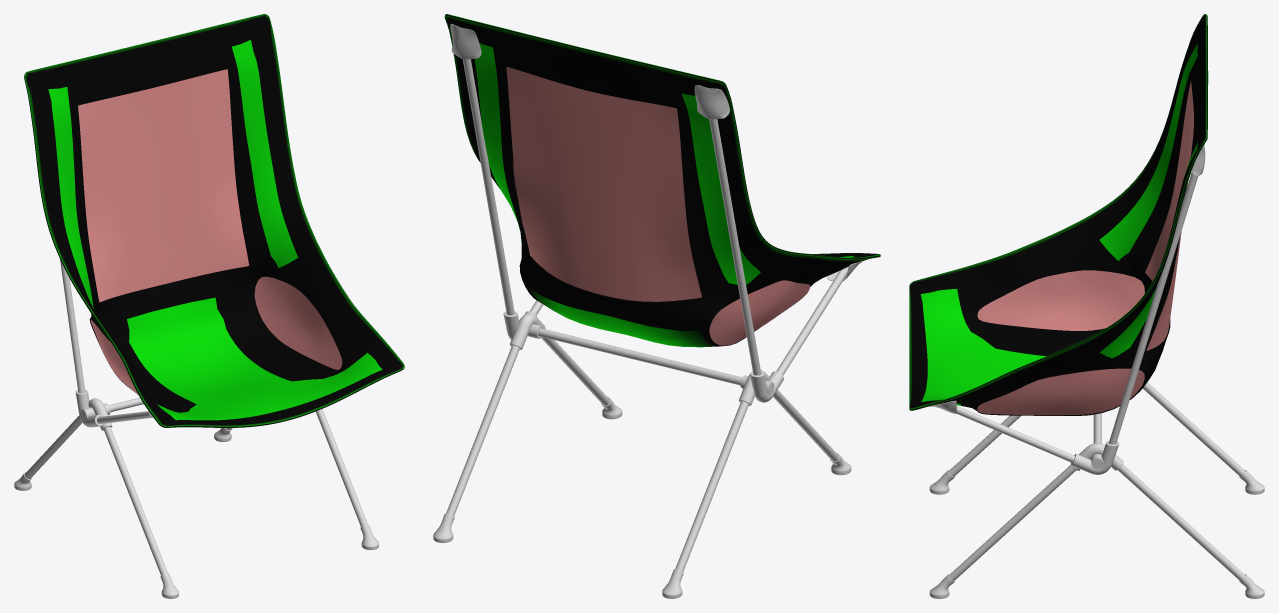
The model's file is camping chair.fbx.
The picture shows the model from 3 angles, left to right: view 1: azimuth 30°, elevation 25°; view 2: azimuth 150°, elevation 25°; view 3: azimuth 270°, elevation 25°; orthographic projection. The views are drawn at different scales.
Parts seen in each view (by area): view 1: fabric_001_mesh, mesh_001_mesh, mesh_003_mesh, leg_001_mesh, leg_003_mesh, leg_007_mesh, mesh_002_mesh, leg_004_mesh; view 2: fabric_001_mesh, mesh_001_mesh, mesh_002_mesh, leg_007_mesh, leg_009_mesh, leg_005_mesh, leg_002_mesh, leg_004_mesh, leg_006_mesh, fabric_002_mesh, fabric_003_mesh, leg_001_mesh (+2 smaller); view 3: fabric_001_mesh, mesh_002_mesh, mesh_003_mesh, mesh_001_mesh, leg_009_mesh, leg_002_mesh, leg_003_mesh, leg_004_mesh, leg_008_mesh, leg_001_mesh, bracket_004_mesh.
Boxes of the visible parts, x1,y1,x2,y2 form: fabric_001_mesh: [24, 14, 404, 427]; mesh_001_mesh: [78, 69, 249, 302]; mesh_003_mesh: [254, 276, 342, 369]; leg_001_mesh: [103, 426, 167, 575]; leg_003_mesh: [315, 409, 367, 526]; leg_007_mesh: [60, 259, 85, 393]; mesh_002_mesh: [90, 319, 138, 394]; leg_004_mesh: [25, 415, 82, 478]; fabric_001_mesh: [444, 14, 880, 347]; mesh_001_mesh: [506, 67, 701, 301]; mesh_002_mesh: [709, 280, 809, 345]; leg_007_mesh: [709, 119, 761, 375]; leg_009_mesh: [462, 59, 514, 315]; leg_005_mesh: [538, 328, 741, 385]; leg_002_mesh: [446, 345, 519, 516]; leg_004_mesh: [675, 401, 748, 571]; leg_006_mesh: [776, 266, 848, 375]; fabric_002_mesh: [694, 85, 729, 119]; fabric_003_mesh: [450, 24, 481, 59]; leg_001_mesh: [773, 389, 838, 461]; fabric_001_mesh: [909, 14, 1208, 415]; mesh_002_mesh: [977, 270, 1144, 330]; mesh_003_mesh: [977, 368, 1144, 415]; mesh_001_mesh: [1145, 81, 1193, 350]; leg_009_mesh: [1109, 172, 1198, 444]; leg_002_mesh: [1118, 464, 1245, 581]; leg_003_mesh: [948, 465, 1076, 581]; leg_004_mesh: [1143, 382, 1245, 476]; leg_008_mesh: [956, 406, 1074, 462]; leg_001_mesh: [948, 415, 1021, 476]; bracket_004_mesh: [1071, 441, 1119, 474].
Bounding box in the file's own units: 48.14 × 81.4 × 56.16.
